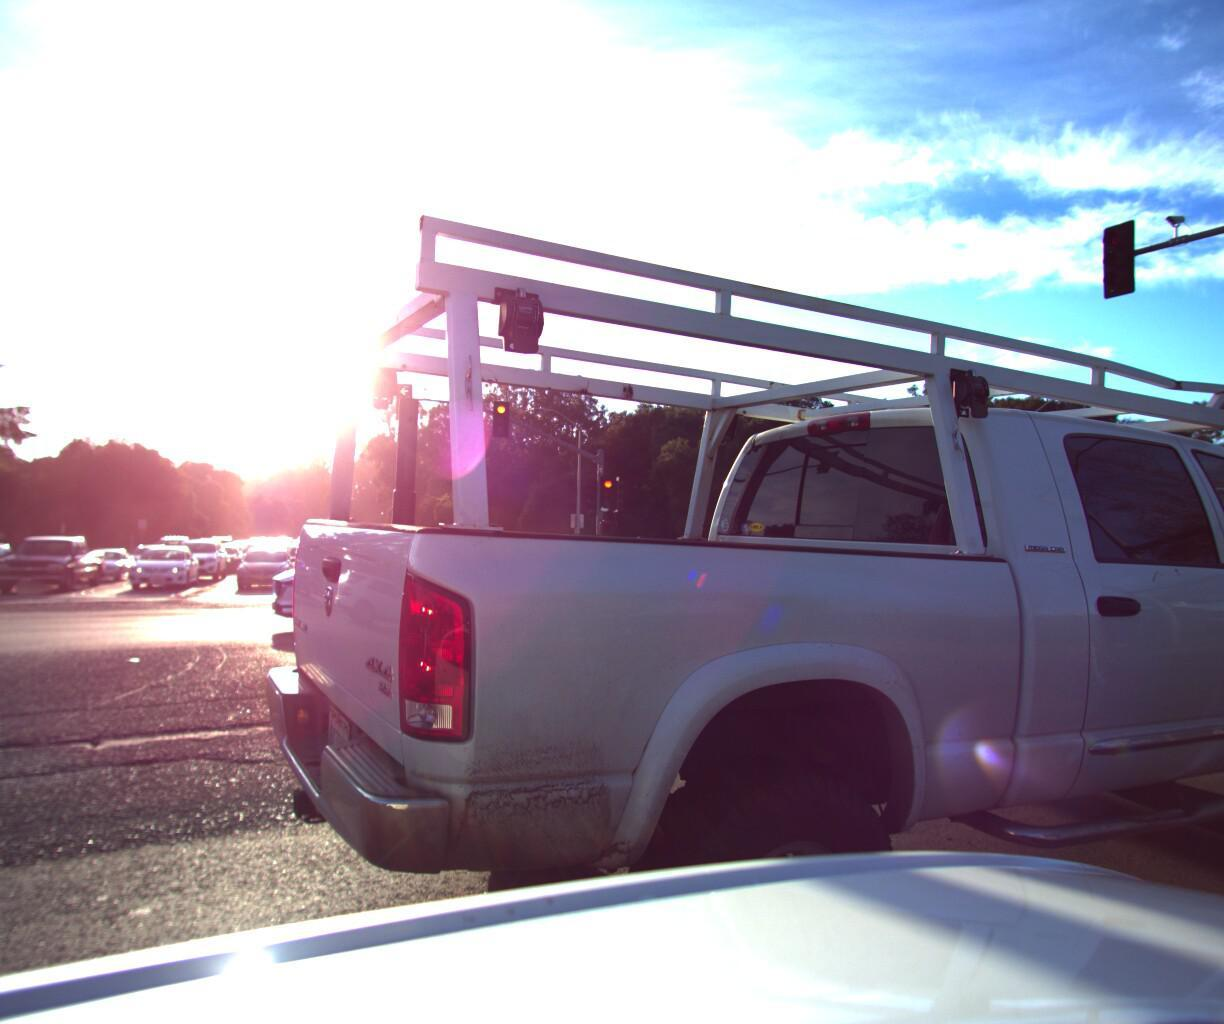car: (166, 108, 1224, 1024), (259, 518, 539, 636), (0, 532, 113, 599), (123, 543, 203, 589), (161, 534, 229, 584), (65, 543, 138, 585), (234, 544, 297, 590), (143, 533, 202, 569), (0, 543, 38, 588), (265, 539, 308, 577)
